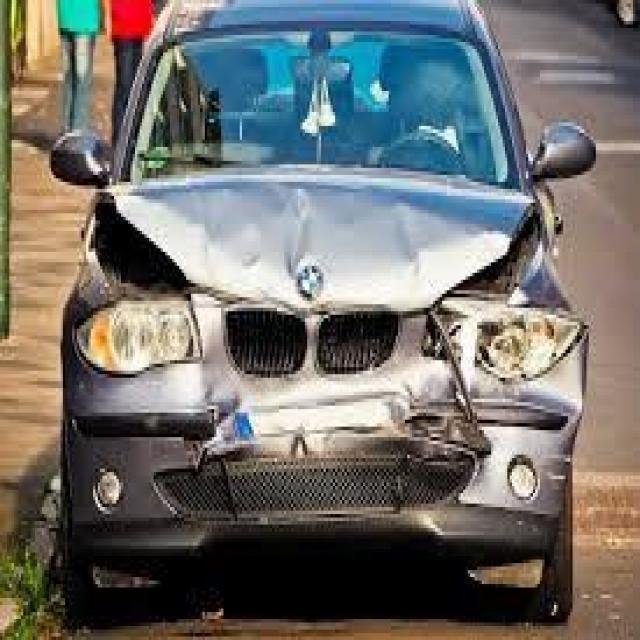damaged: (84, 182, 589, 538)
